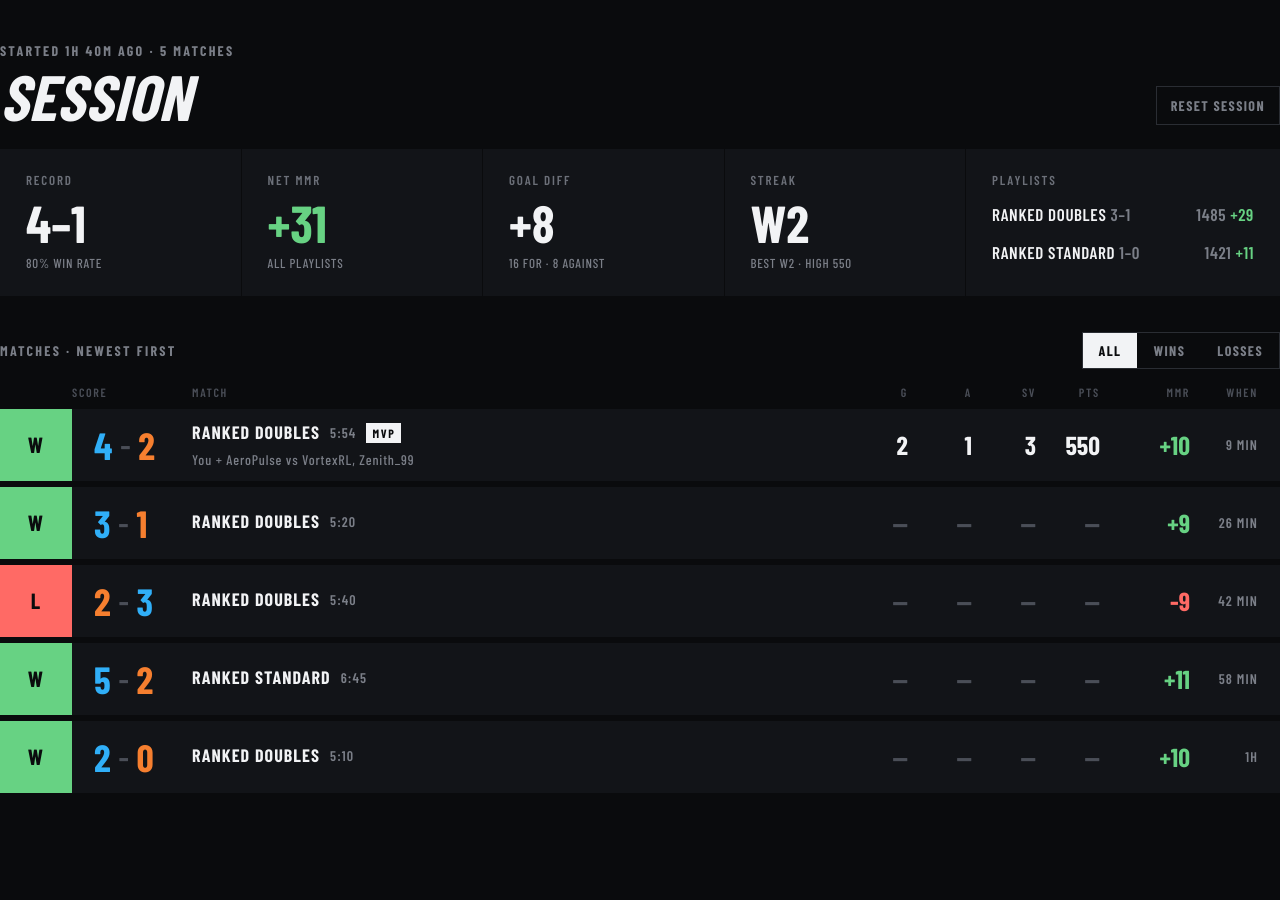
Test case: SessionView › opens the match detail dialog when a row is clicked, and closes it with ESC ✕
Step 1. Click the button with test id "session-match-row" that starts with "RANKED DOUBLES" → (36, 445), box [0,409,1279,481]
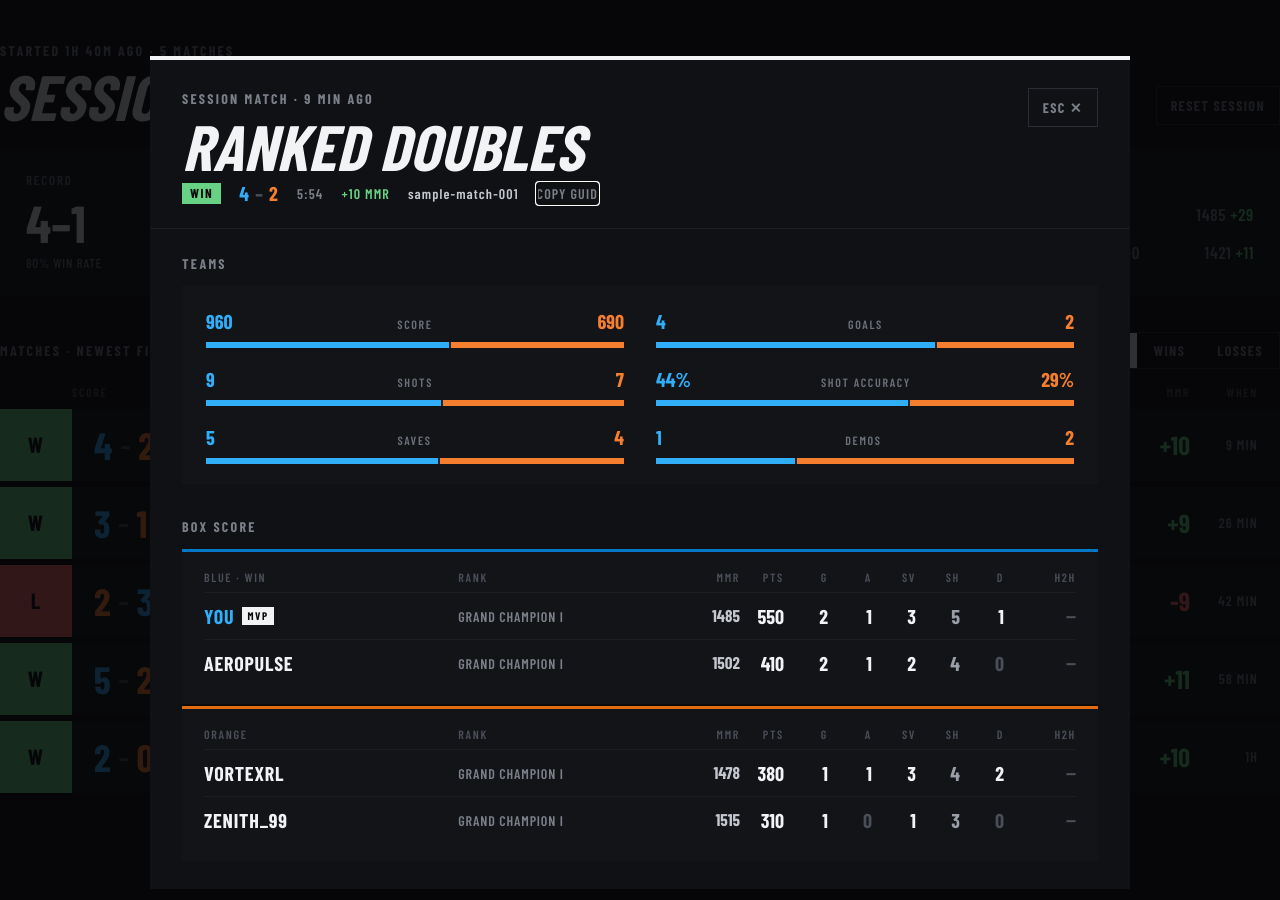
Check: the dialog is shown
Check: the dialog shows "SESSION MATCH · 9 MIN AGO", box [182,90,374,107]
Check: the element with test id "box-score-blue" shows "MVP", box [248,609,269,622]
Step 2. Click the button "ESC ✕" → (1063, 108), box [1028,88,1098,127]
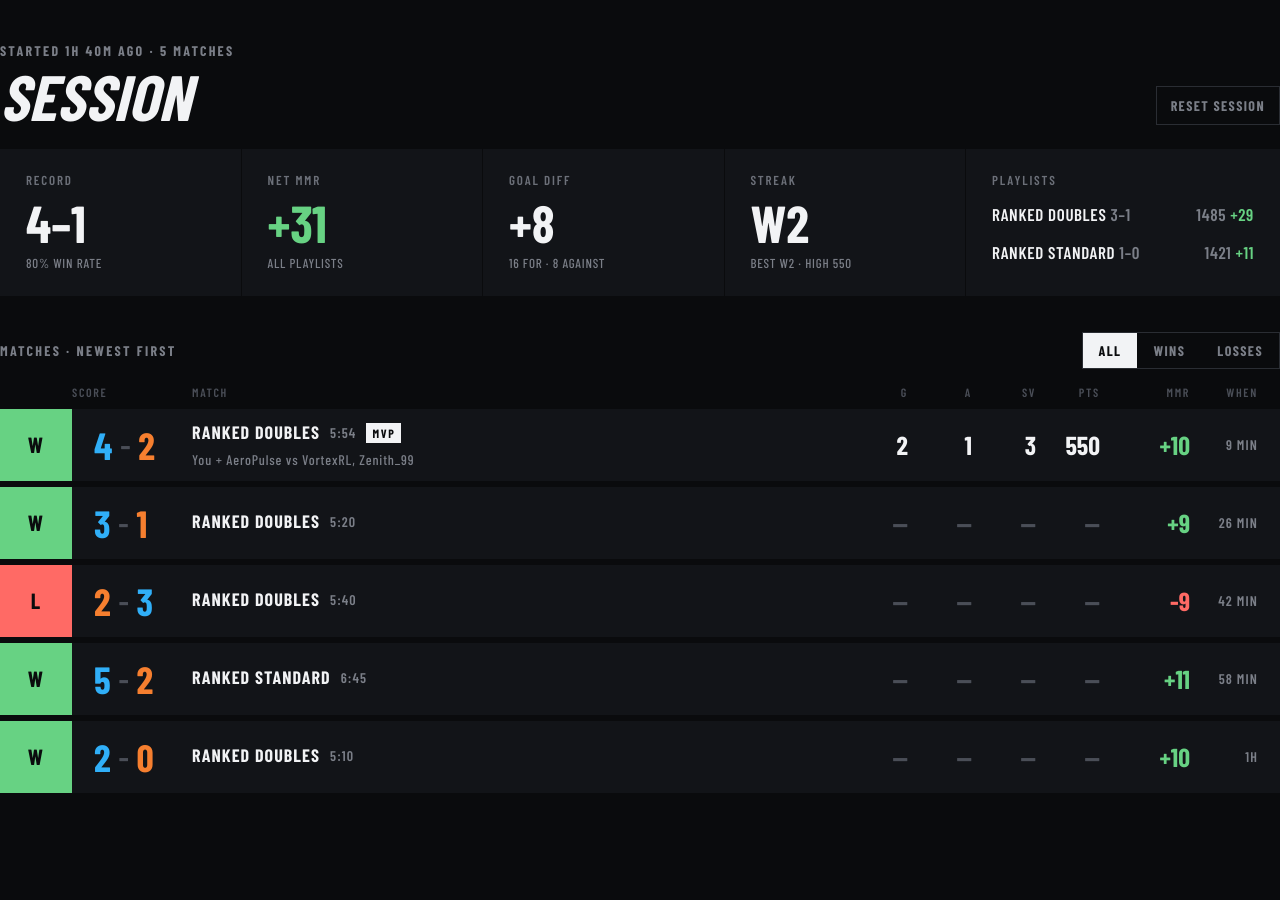
Check: the dialog is gone
